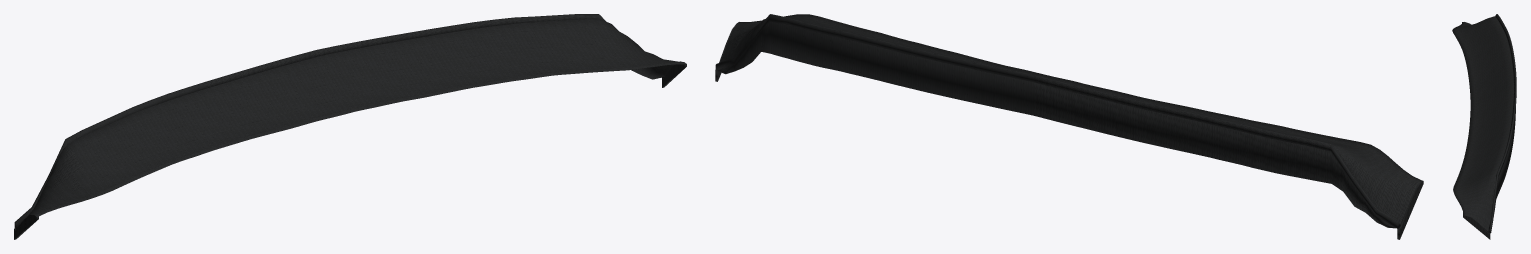
The model's file is WB14_widebody_ducktail_carbon.glb.
3 renders of one model, left to right at view 1: azimuth 30°, elevation 25°; view 2: azimuth 150°, elevation 25°; view 3: azimuth 270°, elevation 25°, orthographic. The views are drawn at different scales.
Visible parts, largest first — view 1: MOD_NA_WB14_spoiler, MOD_NA_WB14_gurney; view 2: MOD_NA_WB14_spoiler, MOD_NA_WB14_gurney; view 3: MOD_NA_WB14_spoiler, MOD_NA_WB14_gurney, MOD_NA_WB14_cap_L.
Boxes of the visible parts, left/top/right/bottom form: MOD_NA_WB14_spoiler: left=16, top=19, right=685, bottom=228; MOD_NA_WB14_gurney: left=14, top=14, right=663, bottom=229; MOD_NA_WB14_spoiler: left=717, top=14, right=1422, bottom=228; MOD_NA_WB14_gurney: left=715, top=14, right=1400, bottom=228; MOD_NA_WB14_spoiler: left=1452, top=16, right=1515, bottom=232; MOD_NA_WB14_gurney: left=1488, top=14, right=1516, bottom=233; MOD_NA_WB14_cap_L: left=1463, top=215, right=1490, bottom=239.
Size of the model in its own units: 1.09 by 0.1618 by 0.1565.
1 material, 1 textured.
